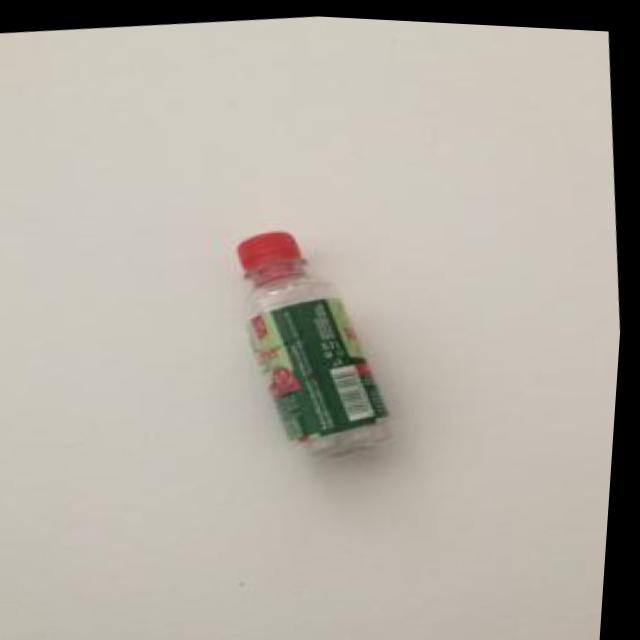plastic: (193, 187, 432, 471)
